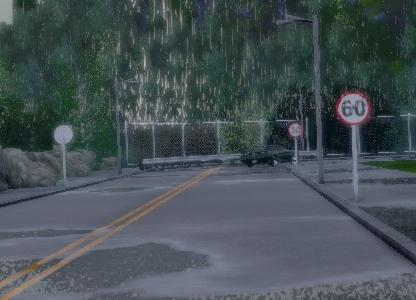Speed_60: (333, 90, 373, 129)
